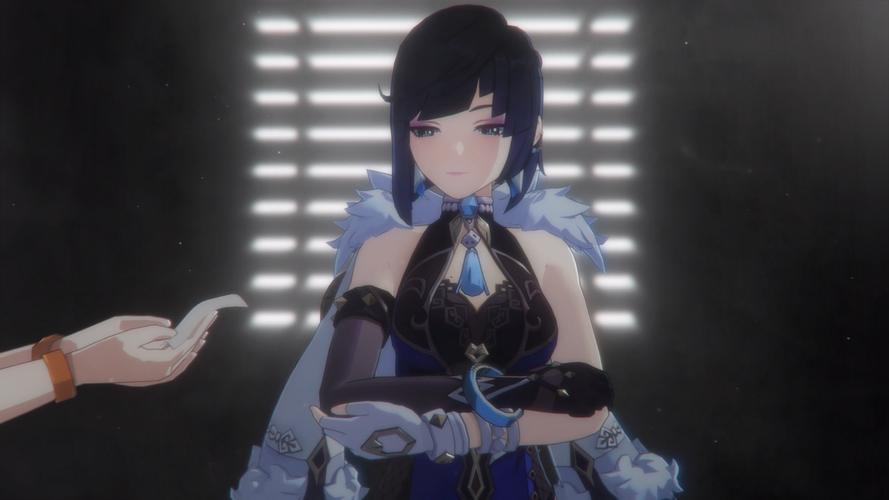夜兰: (313, 7, 613, 500)
